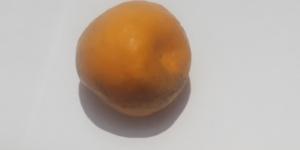BAD: (68, 1, 193, 116)
